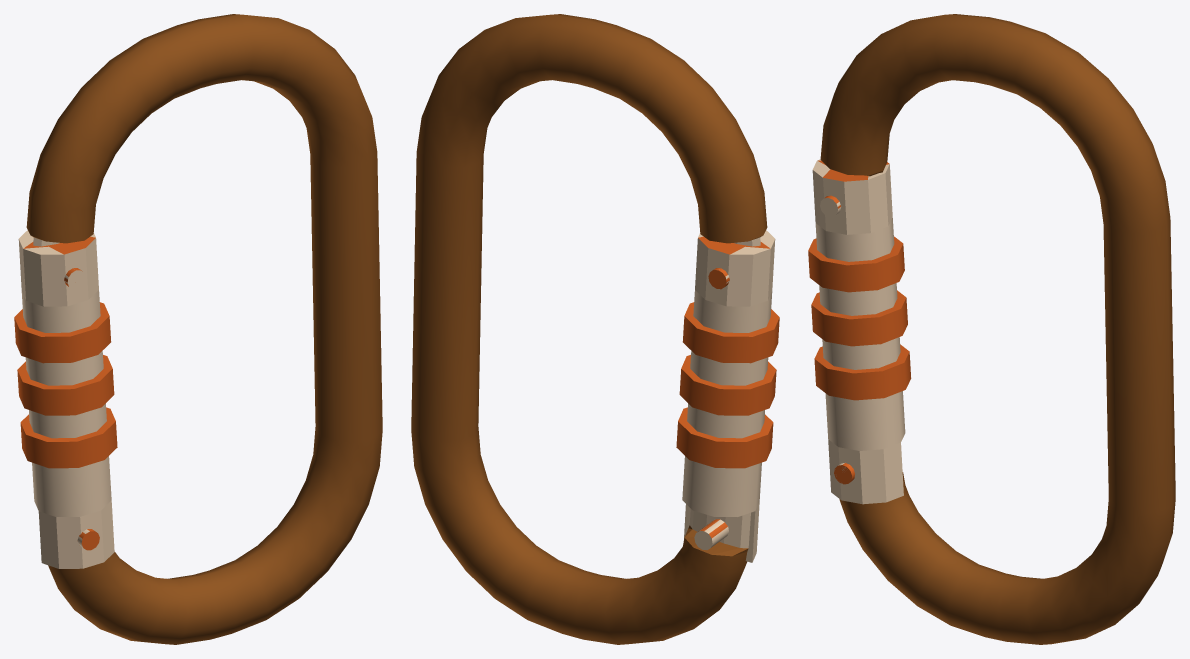
The model's file is SM_Retractable_fall_2.FBX.
3 views of the same model, side by side, from view 1: azimuth 30°, elevation 25°; view 2: azimuth 150°, elevation 25°; view 3: azimuth 330°, elevation 25° (orthographic).
Parts seen in each view (by area): view 1: SM_Retractable_fall_2; view 2: SM_Retractable_fall_2; view 3: SM_Retractable_fall_2.
Part boxes in pixels (x1,y1,x2,y2): SM_Retractable_fall_2: (14,14,382,644); SM_Retractable_fall_2: (411,14,779,644); SM_Retractable_fall_2: (808,14,1175,644).
Bounding box in the file's own units: 238 × 390 × 50.08.
